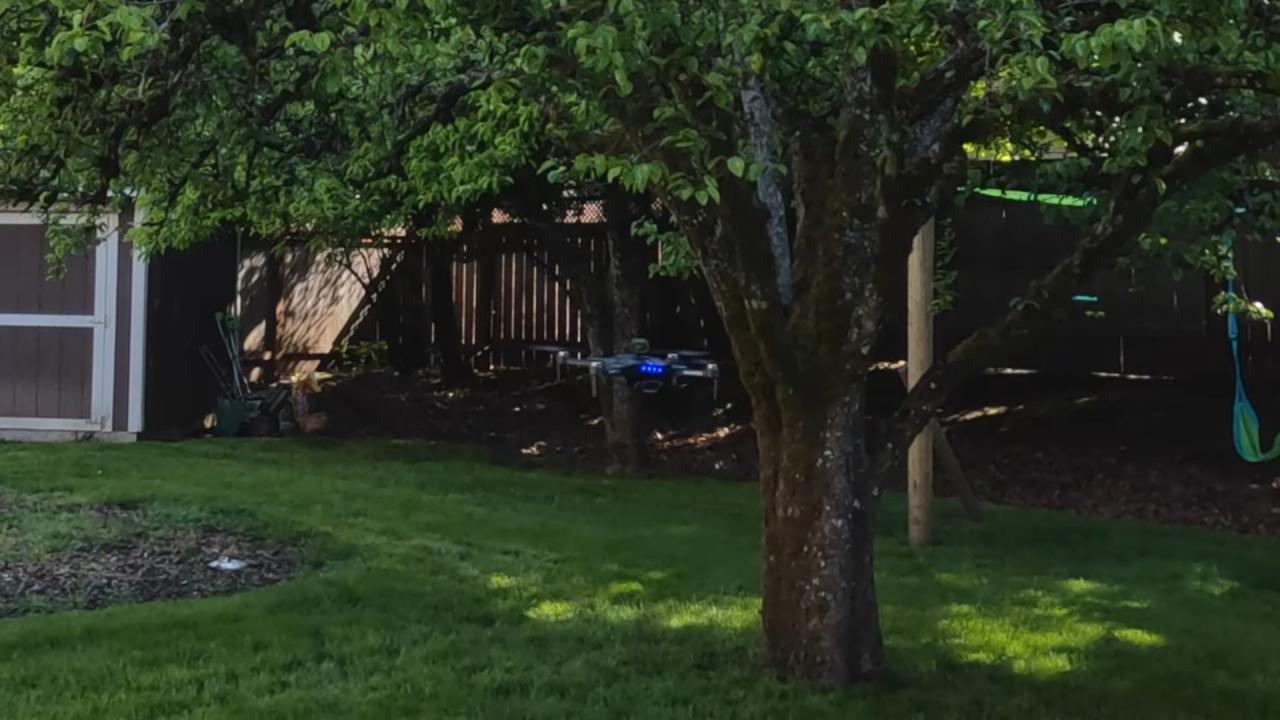Drone: (517, 329, 747, 404)
